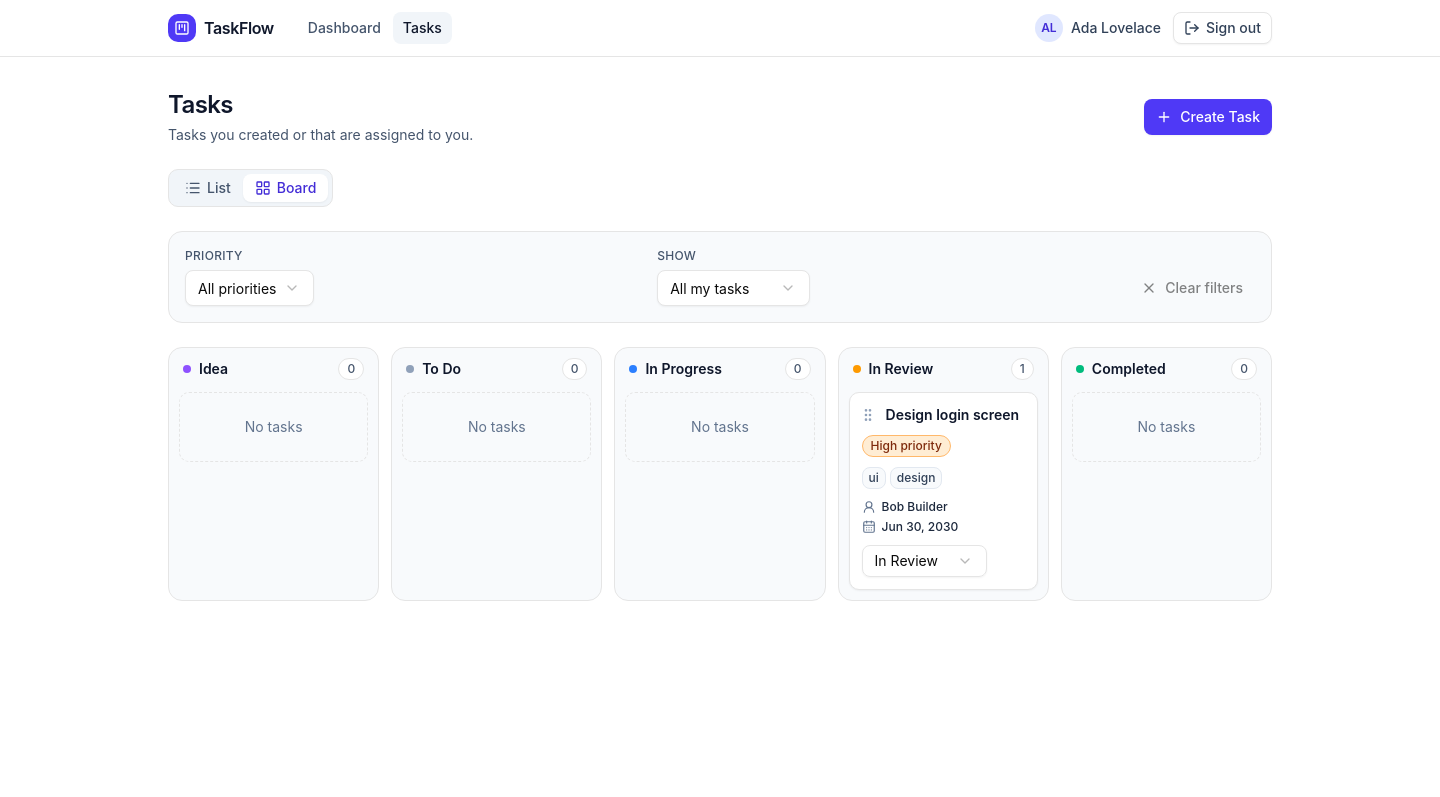
opening the detail page from the list and the board › opens from a board card, "Back" returns to the board, and the card controls keep working
This screenshot has width=1440, height=797.
Expected: the button named "Drag task: Design login screen" is shown, [858,405,878,425]
# Using the select moves the card without navigating away.
Select "Completed" in the dropdown named "Move “Design login screen” to status" at x=924, y=561, box [862,545,987,577]
Expected: the element "Completed" is shown, [1061,347,1272,601]
Click the link "Design login screen" at x=952, y=414, box [886,406,1019,423]
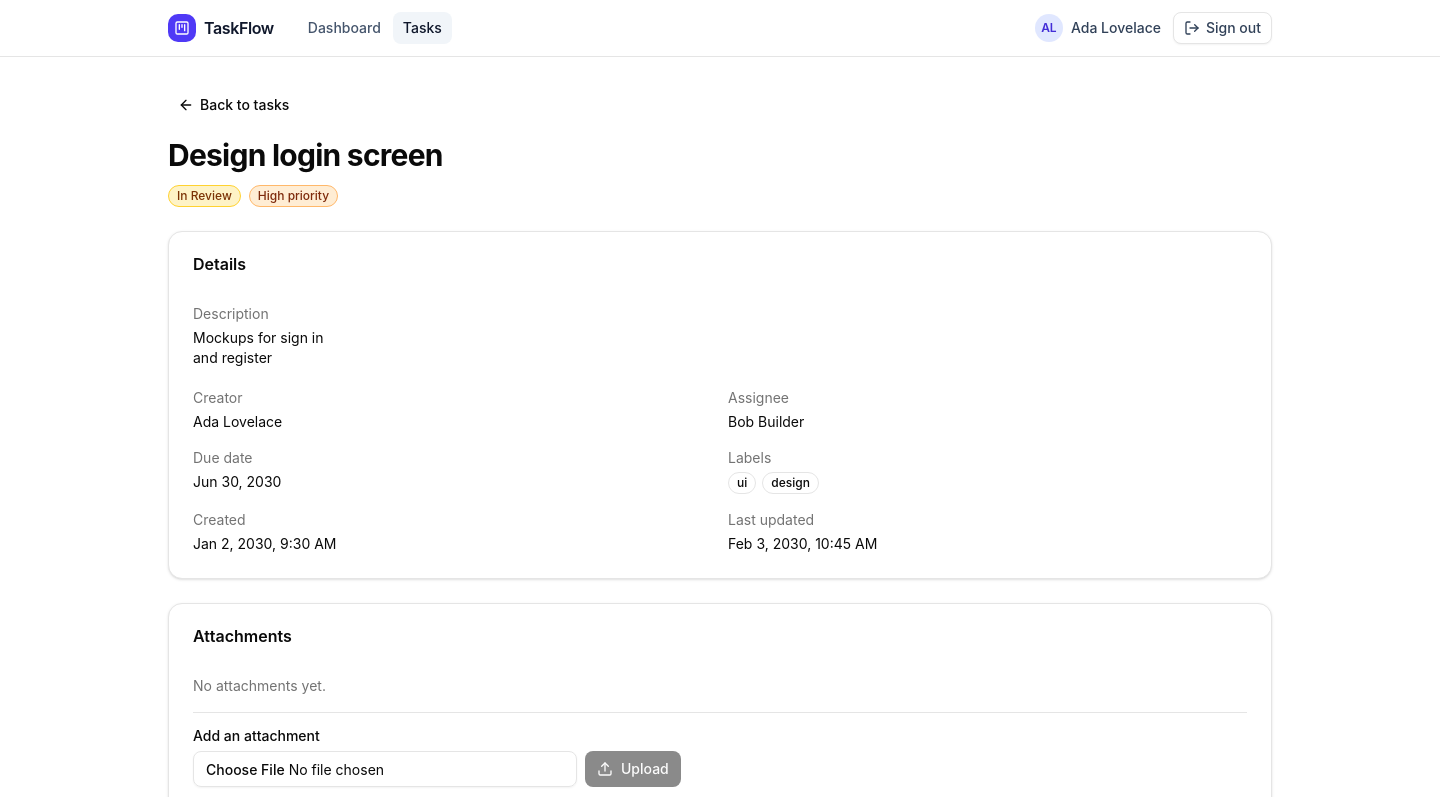
Result: the heading "Design login screen" is shown at [168,137,443,173]
Click the link "Back to tasks" at x=234, y=104, box [178,96,289,113]
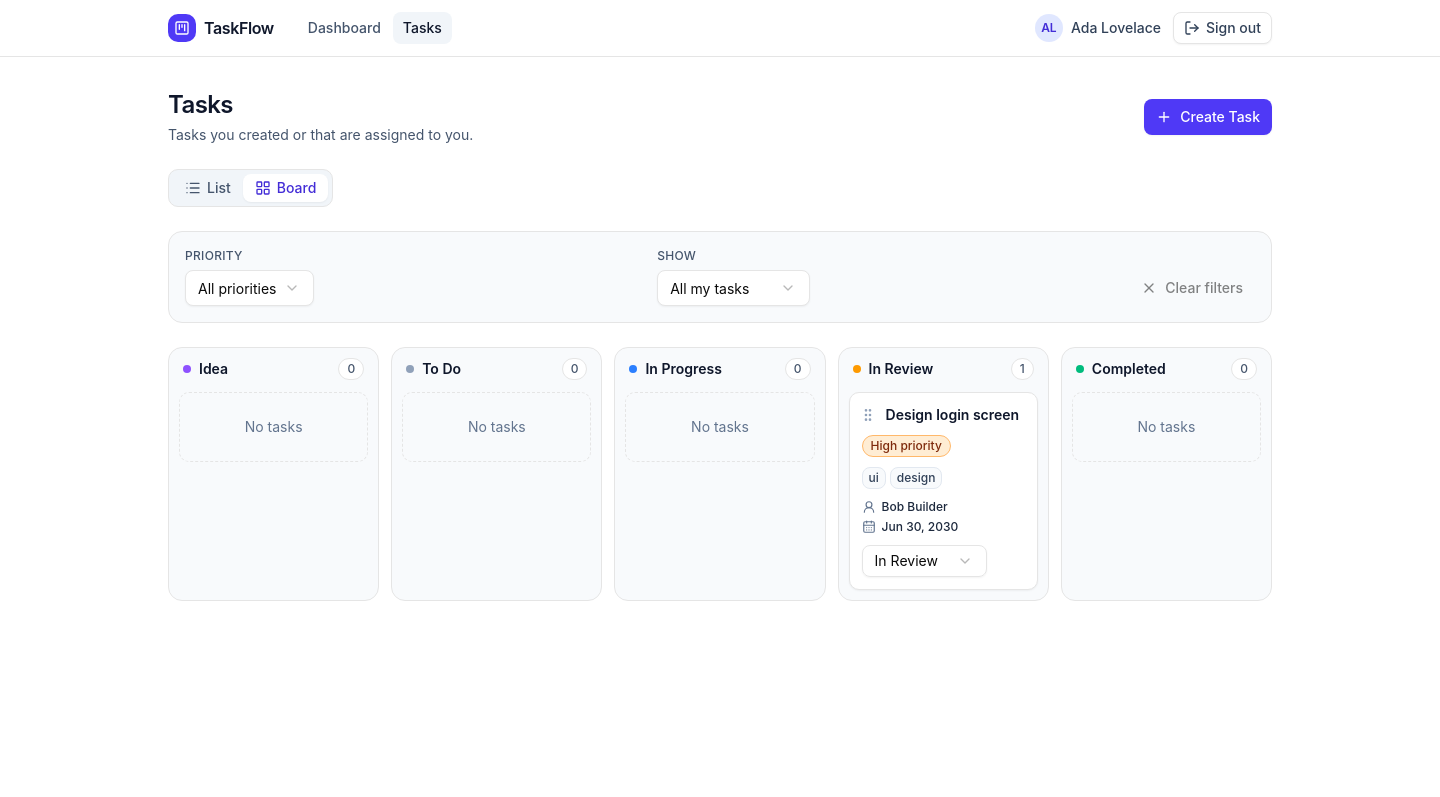
Result: the element "To Do" is shown at [391,347,602,601]
